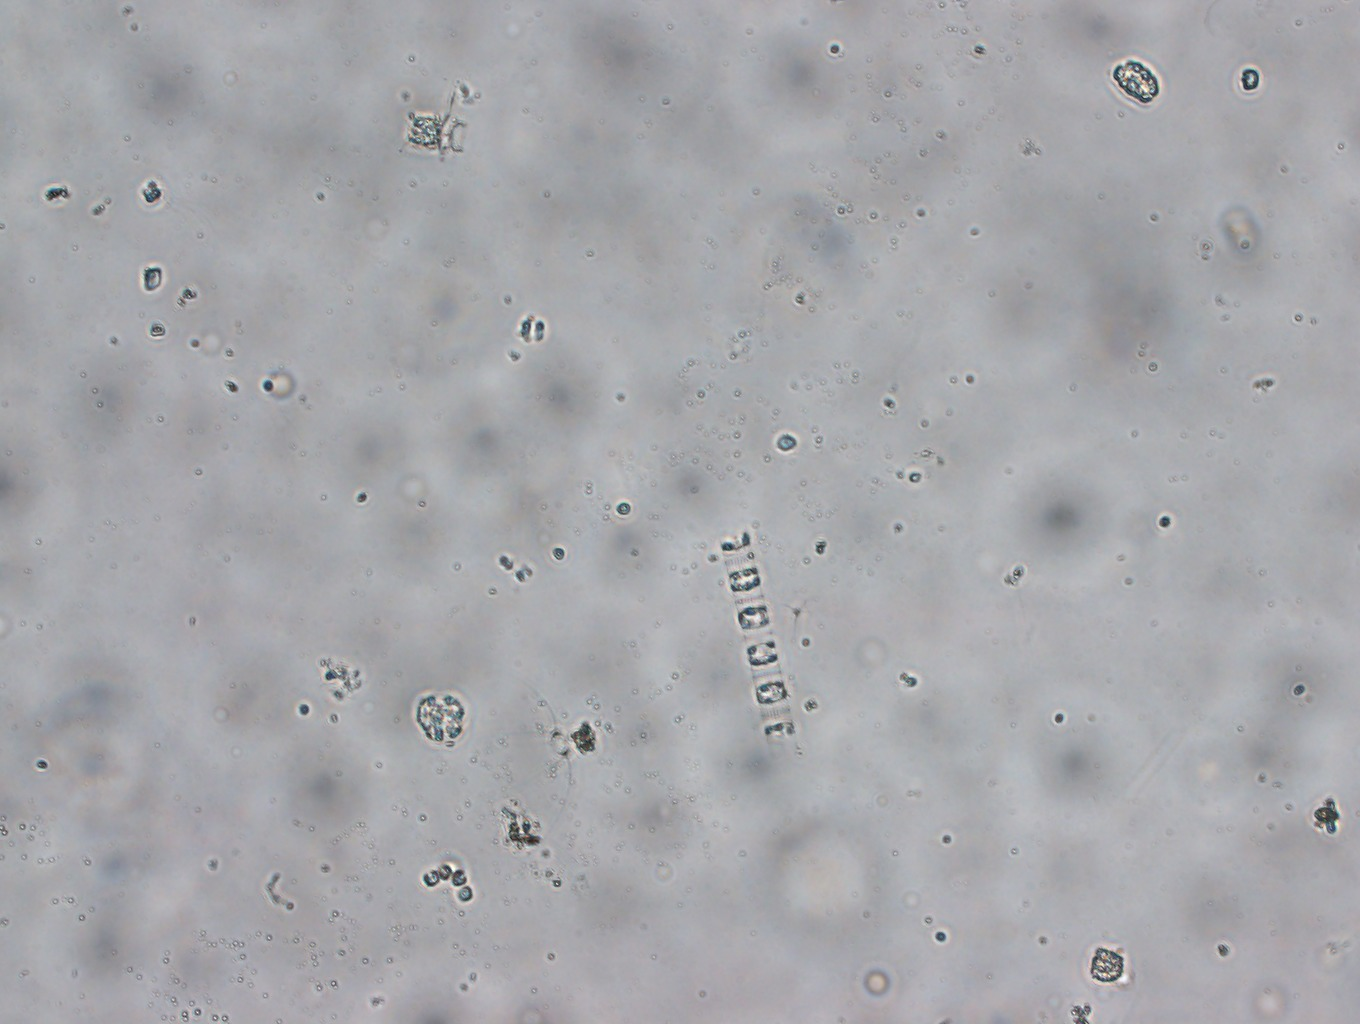skeletonema: (713, 514, 818, 767)
